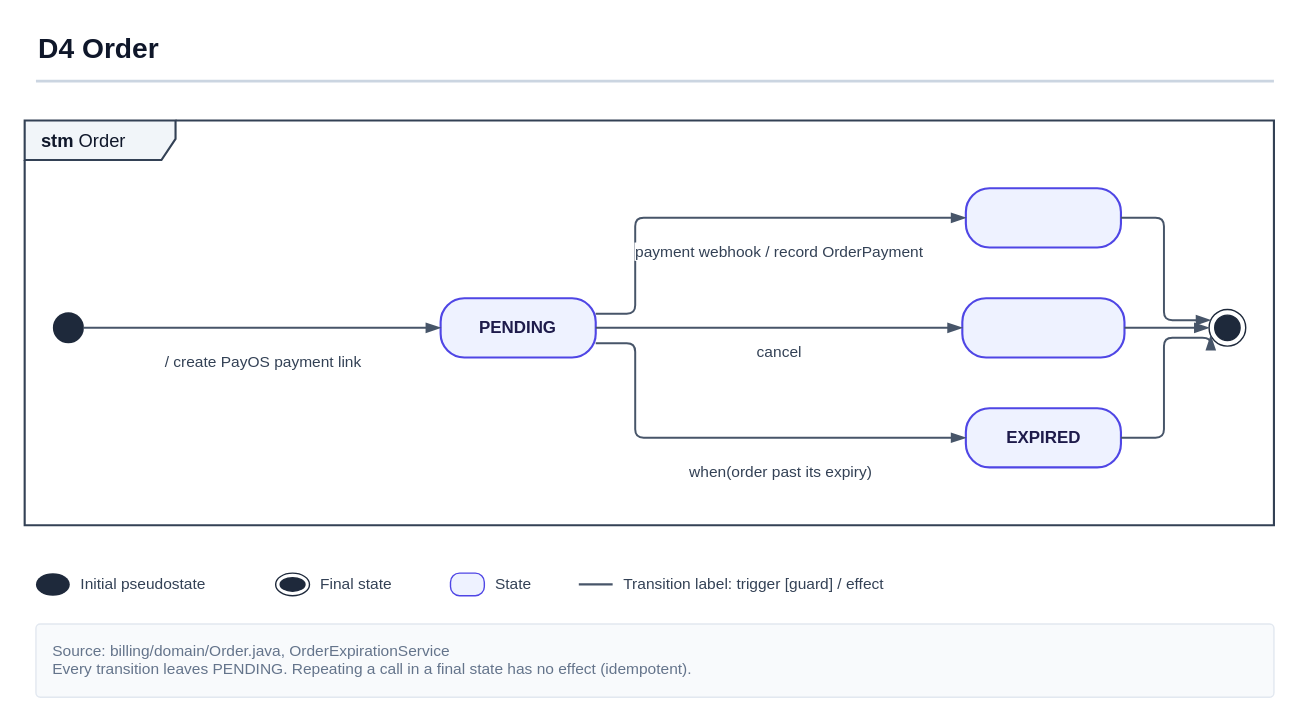
Image size: 1300x722. Some labels were removed from this diagram. The centre of each missing label's shape, as x and y in pixels:
CANCELLED: [1043,327]
PAID: [1042,217]
